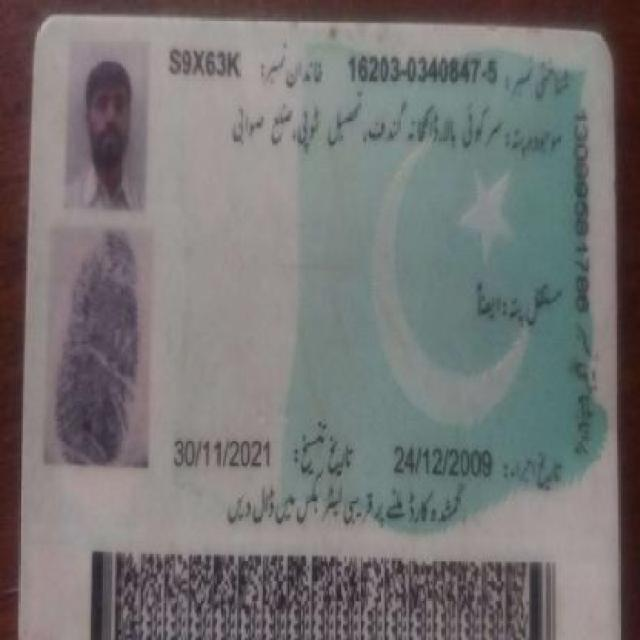Back: (17, 10, 621, 628)
